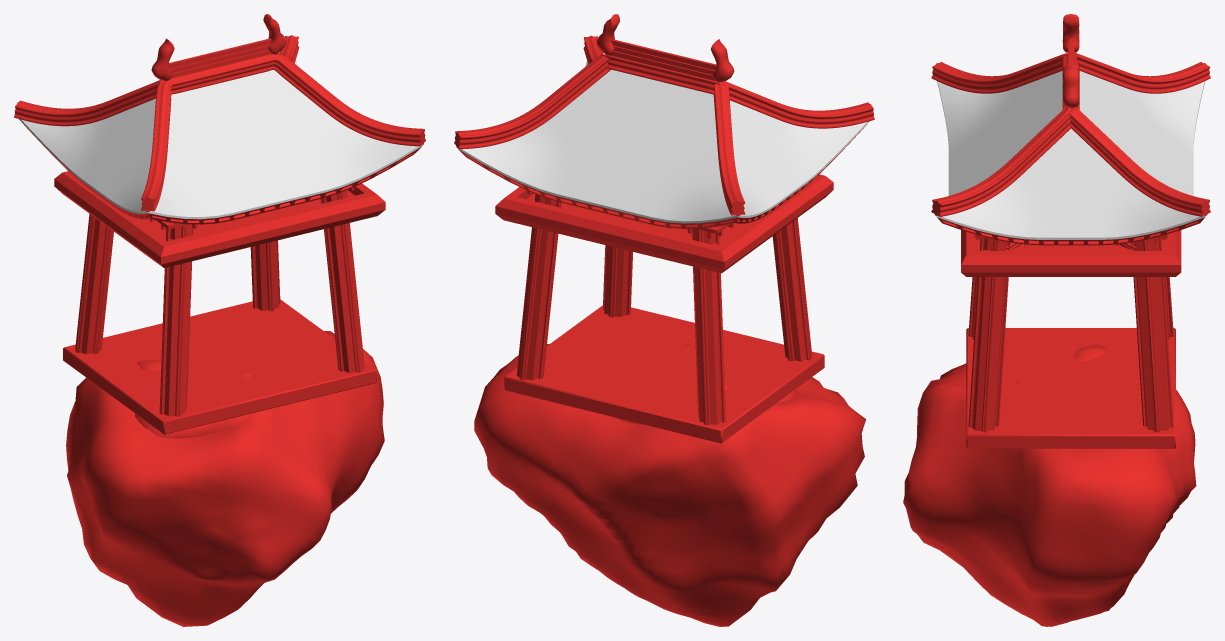
Rendered from shrine.fbx.
3 views of the same model, side by side, from view 1: azimuth 30°, elevation 25°; view 2: azimuth 150°, elevation 25°; view 3: azimuth 270°, elevation 25° (orthographic). The views are drawn at different scales.
Parts seen in each view (by area): view 1: Cube.041; view 2: Cube.041; view 3: Cube.041.
Boxes of the visible parts, x1,y1,x2,y2 form: Cube.041: [14, 14, 425, 626]; Cube.041: [454, 14, 874, 626]; Cube.041: [903, 14, 1210, 626].
Size of the model in its own units: 484 by 872 by 405.
